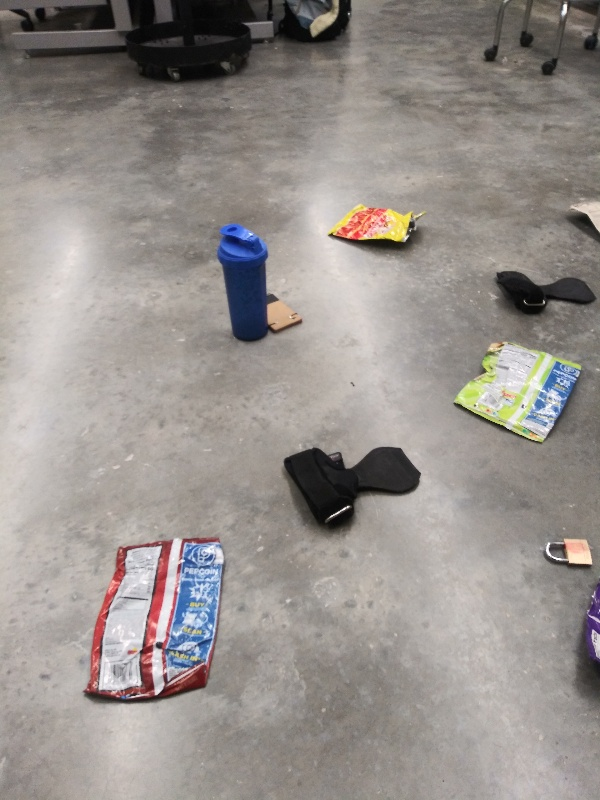bag: (73, 533, 225, 705), (448, 337, 589, 450), (322, 200, 430, 253), (573, 578, 600, 671), (567, 194, 600, 243)
